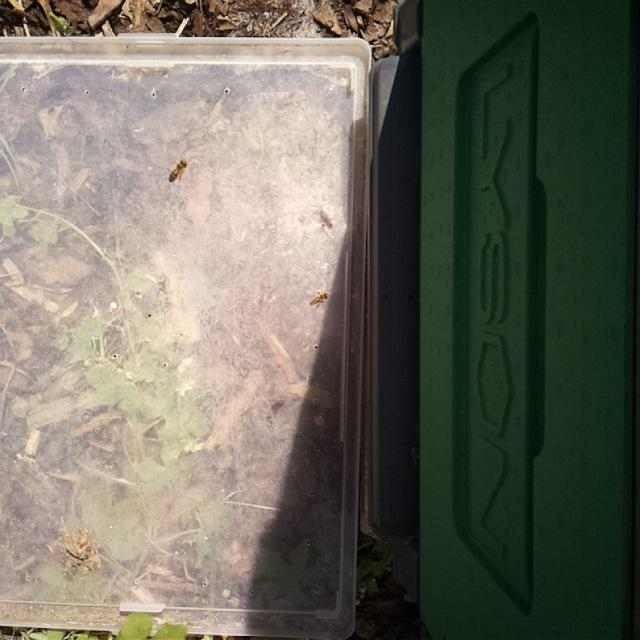worker-bee: (164, 158, 192, 188), (307, 286, 333, 315)
